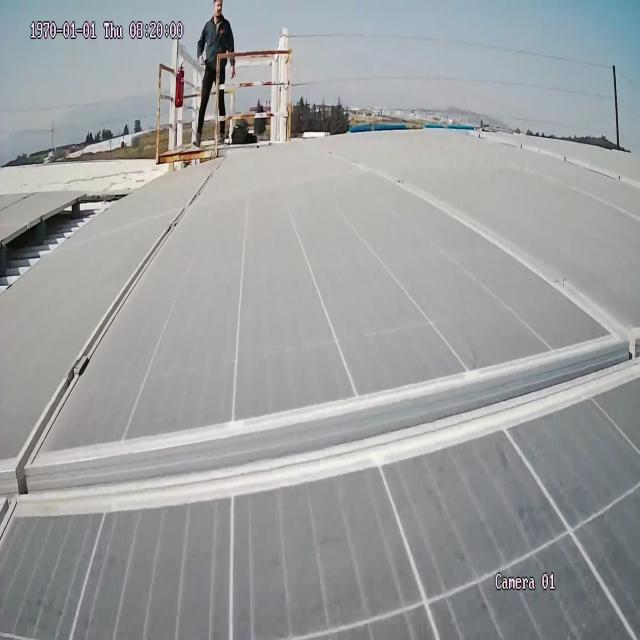interior panel: (0, 168, 635, 518)
outher panel: (0, 194, 122, 293)
